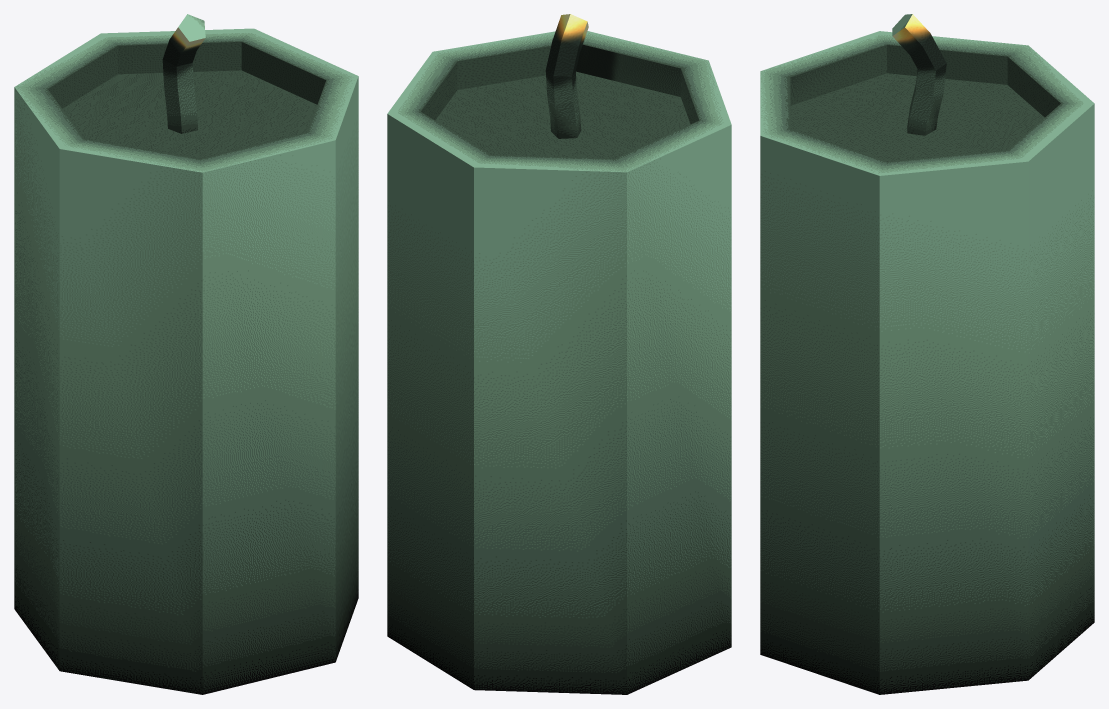
Rendered from LD56_candleMid.fbx.
3 views of the same model, side by side, from view 1: azimuth 30°, elevation 25°; view 2: azimuth 150°, elevation 25°; view 3: azimuth 270°, elevation 25° (orthographic).
Visible parts, largest first — view 1: candleMid; view 2: candleMid; view 3: candleMid.
Part boxes in pixels (left/top/right/bottom): candleMid: left=14, top=14, right=358, bottom=694; candleMid: left=387, top=14, right=731, bottom=694; candleMid: left=760, top=14, right=1094, bottom=694.
Size of the model in its own units: 195 by 380 by 190.
